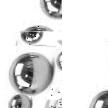ironball: (9, 51, 52, 95), (84, 82, 107, 107), (21, 23, 43, 47), (39, 0, 62, 21), (6, 94, 33, 107)
